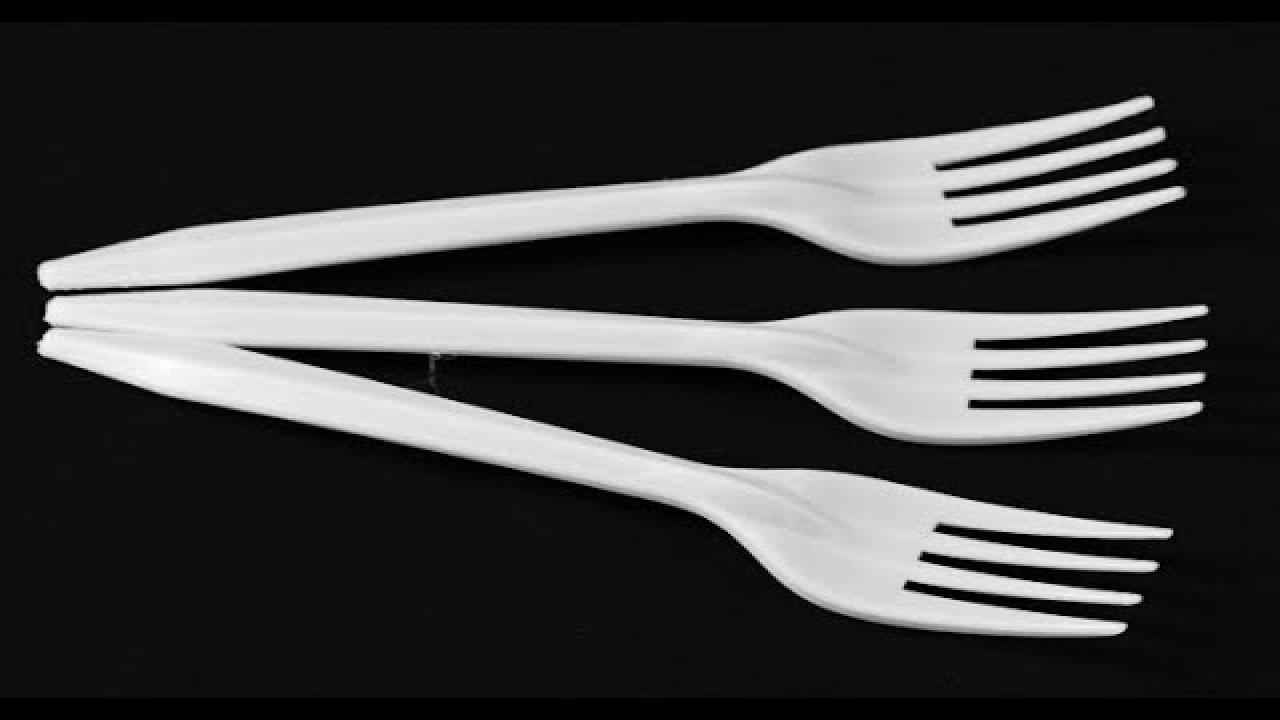fork: (35, 324, 1173, 638), (35, 92, 1189, 292), (40, 286, 1210, 446)
